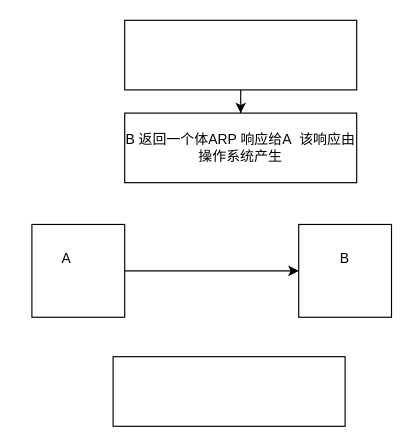
Image size: 412x447. Some labels were removed from this diagram. The centre of each missing label's shape, as x and y in pixels:
A 请求B Mac地址 在A 上run arp_request.c: [240,54]
A运行arp_receive.c 解析B发过来的ARP响应: [228,391]
